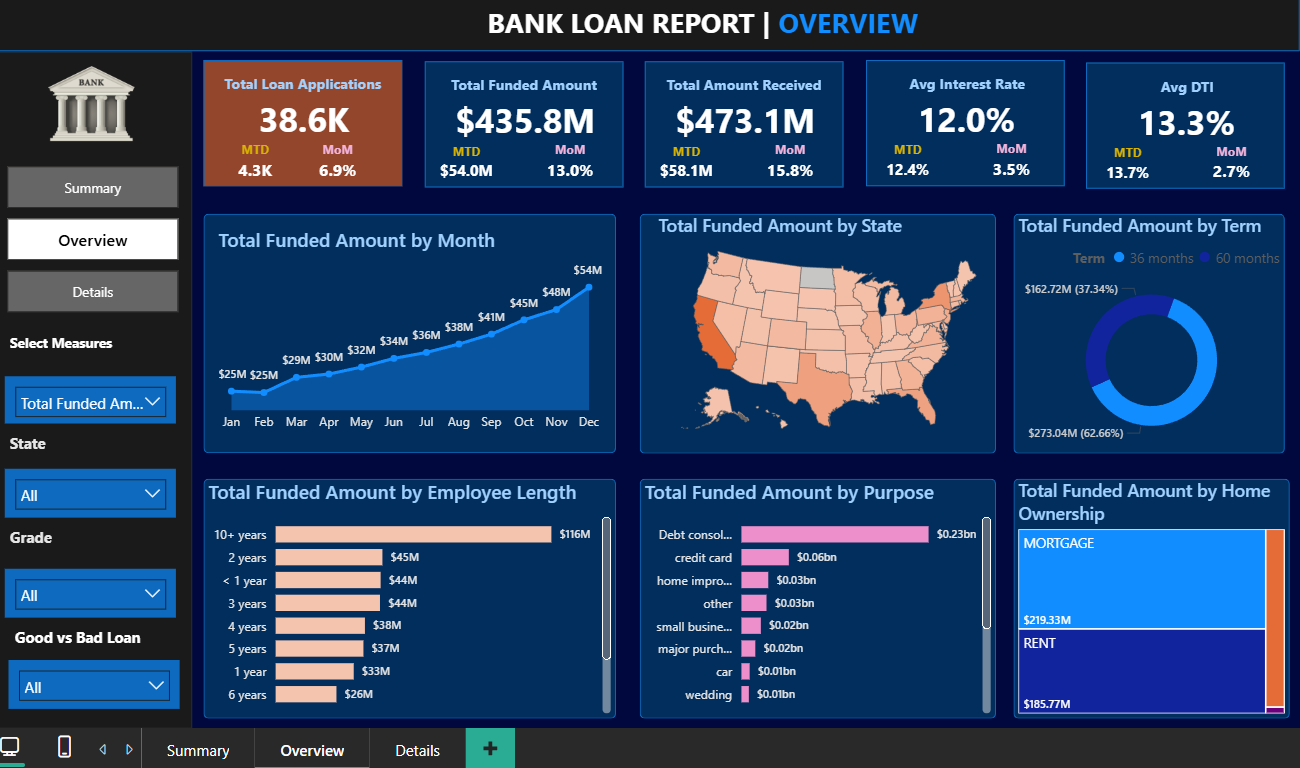

The page's visual inventory and layout, read from the dashboard file:
{"tool":"powerbi","page":{"name":"Overview","canvas":[1280,720],"ordinal":1},"visuals":[{"type":"shape","box":[853.4,63.8,195.1,123.9],"z":0,"group":"g4"},{"type":"shape","box":[203.7,64.4,195.1,123.9],"z":0,"group":"g1"},{"type":"shape","box":[420.2,65,195.1,123.9],"z":0,"group":"g2"},{"type":"shape","box":[636.8,65.6,195.1,123.9],"z":0,"group":"g3"},{"type":"shape","box":[1069.9,66.3,195.1,123.9],"z":0,"group":"g5"},{"type":"shape","box":[998.8,214.7,266.3,235.6],"z":0},{"type":"shape","box":[1.2,55.2,191.4,665],"z":1000},{"type":"card","fields":{"Values":["Measures Table.Avg Interest Rate"]},"box":[871.8,98.2,160.7,47.9],"z":1000,"group":"g4"},{"type":"card","fields":{"Values":["Measures Table.Total Loan Applications"]},"box":[222.1,98.8,160.7,47.9],"z":1000,"group":"g1"},{"type":"card","fields":{"Values":["Measures Table.Total Funded Amount"]},"box":[438.6,99.4,160.7,47.9],"z":1000,"group":"g2"},{"type":"card","fields":{"Values":["Measures Table.Total Received Amount"]},"box":[655.2,100,160.7,47.9],"z":1000,"group":"g3"},{"type":"card","fields":{"Values":["Measures Table.Avg DTI_"]},"box":[1088.3,100.7,160.7,47.9],"z":1000,"group":"g5"},{"type":"shape","box":[0,0,1279.8,55.2],"z":2000},{"type":"textbox","box":[853.4,72.4,195.1,29.4],"z":2000,"group":"g4"},{"type":"textbox","box":[203.7,73,195.1,29.4],"z":2000,"group":"g1"},{"type":"textbox","box":[420.2,73.6,195.1,29.4],"z":2000,"group":"g2"},{"type":"textbox","box":[636.8,74.2,195.1,29.4],"z":2000,"group":"g3"},{"type":"textbox","box":[1069.9,74.9,195.1,29.4],"z":2000,"group":"g5"},{"type":"card","title":"MTD","fields":{"Values":["Measures Table.Avg MTD Interest Rate"]},"box":[862.1,143.1,65,44.2],"z":3000,"group":"g4"},{"type":"card","title":"MTD","fields":{"Values":["Measures Table.Total MTD"]},"box":[222.1,144.2,65,44.2],"z":3000,"group":"g1"},{"type":"card","title":"MTD","fields":{"Values":["Measures Table.MTD Funded Amount"]},"box":[428.9,144.3,65,44.2],"z":3000,"group":"g2"},{"type":"card","title":"MTD","fields":{"Values":["Measures Table.MTD Received Amount"]},"box":[645.5,144.9,65,44.2],"z":3000,"group":"g3"},{"type":"card","title":"MTD","fields":{"Values":["Measures Table.MTD DTI"]},"box":[1078.6,145.6,65,44.2],"z":3000,"group":"g5"},{"type":"shape","box":[203.7,214.7,405,235],"z":3000},{"type":"textbox","box":[350.9,3.7,685.9,49.1],"z":4000},{"type":"card","title":"MoM","fields":{"Values":["Measures Table.MoM Interest Rate"]},"box":[963.2,142.6,65,44.2],"z":4000,"group":"g4"},{"type":"card","title":"MoM","fields":{"Values":["Measures Table.Mom funded Amount"]},"box":[530,143.8,65,44.2],"z":4000,"group":"g2"},{"type":"card","title":"MoM","fields":{"Values":["Measures Table.Mom Loan Applications"]},"box":[303.1,144.2,65,44.2],"z":4000,"group":"g1"},{"type":"card","title":"MoM","fields":{"Values":["Measures Table.MoM Received Amount"]},"box":[746.6,144.4,65,44.2],"z":4000,"group":"g3"},{"type":"card","title":"MoM","fields":{"Values":["Measures Table.Mom DTI"]},"box":[1179.7,145.1,65,44.2],"z":4000,"group":"g5"},{"type":"group","id":"g1","title":"Group 1","box":[203.7,64.4,195.1,123.9],"z":5000},{"type":"group","id":"g2","title":"Group 1","box":[420.2,65,195.1,123.9],"z":6000},{"type":"group","id":"g3","title":"Group 1","box":[636.8,65.6,195.1,123.9],"z":7000},{"type":"group","id":"g4","title":"Group 1","box":[853.4,63.8,195.1,123.9],"z":8000},{"type":"donutChart","fields":{"Y":["Measures Table.Total Funded Amount"],"Category":["Bank_Loan_Data.term"]},"box":[998.8,214.7,271.2,235.6],"z":9000},{"type":"group","id":"g5","title":"Group 1","box":[1069.9,66.3,195.1,123.9],"z":10000},{"type":"slicer","fields":{"Values":["Bank_Loan_Data.address_state"]},"box":[8.6,465,168.1,47.9],"z":11000},{"type":"textbox","box":[8.6,420.9,73.6,44.2],"z":12000},{"type":"slicer","fields":{"Values":["Bank_Loan_Data.grade"]},"box":[8.6,563.2,168.1,47.9],"z":13000},{"type":"textbox","box":[8.6,512.9,73.6,41.7],"z":14000},{"type":"slicer","fields":{"Values":["Bank_Loan_Data.Good Loan Vs Bad Loan"]},"box":[12.3,652.8,168.1,47.9],"z":15000},{"type":"textbox","box":[13.5,611,158.3,41.7],"z":16000},{"type":"areaChart","fields":{"Y":["Measures Table.Total Funded Amount"],"Category":["Date Table.Month"]},"box":[213.5,227,386.5,209.8],"z":17000},{"type":"slicer","fields":{"Values":["Select Measure.Select Measure"]},"box":[8.6,374.2,168.1,46.6],"z":18000},{"type":"textbox","box":[8.6,327.6,166.9,46.6],"z":19000},{"type":"shape","box":[631.9,214.7,349.7,235.6],"z":20000},{"type":"shapeMap","fields":{"Value":["Measures Table.Total Funded Amount"],"Category":["Bank_Loan_Data.address_state"]},"box":[645.4,214.7,344.8,225.8],"z":21000},{"type":"shape","box":[203.7,474.8,404.9,235.6],"z":22000},{"type":"barChart","fields":{"Y":["Measures Table.Total Funded Amount"],"Category":["Bank_Loan_Data.emp_length"]},"box":[203.7,474.8,404.9,235.6],"z":23000},{"type":"shape","box":[631.9,474.8,349.7,235.6],"z":24000},{"type":"barChart","fields":{"Y":["Measures Table.Total Funded Amount"],"Category":["Bank_Loan_Data.purpose"]},"box":[631.9,474.8,349.7,235.6],"z":25000},{"type":"shape","box":[998.8,474.8,271.2,235.6],"z":26000},{"type":"treemap","fields":{"Values":["Measures Table.Total Funded Amount"],"Group":["Bank_Loan_Data.home_ownership"]},"box":[998.8,474.8,271.2,235.6],"z":27000},{"type":"pageNavigator","box":[11,168.1,168.1,143.6],"z":28000},{"type":"image","box":[39.3,65,109.2,83.4],"z":29000}]}

Visuals, with their boxes on the page's 1280x720 design canvas (x1, y1, x2, y2). These are canvas units, not pixel positions in the 1300x768 screenshot, which may show the page scaled, cropped or inside an application window:
shape: (853, 64, 1048, 188)
shape: (204, 64, 399, 188)
shape: (420, 65, 615, 189)
shape: (637, 66, 832, 190)
shape: (1070, 66, 1265, 190)
shape: (999, 215, 1265, 450)
shape: (1, 55, 193, 720)
card - Measures Table.Avg Interest Rate: (872, 98, 1032, 146)
card - Measures Table.Total Loan Applications: (222, 99, 383, 147)
card - Measures Table.Total Funded Amount: (439, 99, 599, 147)
card - Measures Table.Total Received Amount: (655, 100, 816, 148)
card - Measures Table.Avg DTI_: (1088, 101, 1249, 149)
shape: (0, 0, 1280, 55)
textbox: (853, 72, 1048, 102)
textbox: (204, 73, 399, 102)
textbox: (420, 74, 615, 103)
textbox: (637, 74, 832, 104)
textbox: (1070, 75, 1265, 104)
"MTD" card: (862, 143, 927, 187)
"MTD" card: (222, 144, 287, 188)
"MTD" card: (429, 144, 494, 188)
"MTD" card: (646, 145, 710, 189)
"MTD" card: (1079, 146, 1144, 190)
shape: (204, 215, 609, 450)
textbox: (351, 4, 1037, 53)
"MoM" card: (963, 143, 1028, 187)
"MoM" card: (530, 144, 595, 188)
"MoM" card: (303, 144, 368, 188)
"MoM" card: (747, 144, 812, 189)
"MoM" card: (1180, 145, 1245, 189)
"Group 1" group: (204, 64, 399, 188)
"Group 1" group: (420, 65, 615, 189)
"Group 1" group: (637, 66, 832, 190)
"Group 1" group: (853, 64, 1048, 188)
donutChart - Measures Table.Total Funded Amount x Bank_Loan_Data.term: (999, 215, 1270, 450)
"Group 1" group: (1070, 66, 1265, 190)
slicer - Bank_Loan_Data.address_state: (9, 465, 177, 513)
textbox: (9, 421, 82, 465)
slicer - Bank_Loan_Data.grade: (9, 563, 177, 611)
textbox: (9, 513, 82, 555)
slicer - Bank_Loan_Data.Good Loan Vs Bad Loan: (12, 653, 180, 701)
textbox: (14, 611, 172, 653)
areaChart - Measures Table.Total Funded Amount x Date Table.Month: (214, 227, 600, 437)
slicer - Select Measure.Select Measure: (9, 374, 177, 421)
textbox: (9, 328, 176, 374)
shape: (632, 215, 982, 450)
shapeMap - Measures Table.Total Funded Amount x Bank_Loan_Data.address_state: (645, 215, 990, 440)
shape: (204, 475, 609, 710)
barChart - Measures Table.Total Funded Amount x Bank_Loan_Data.emp_length: (204, 475, 609, 710)
shape: (632, 475, 982, 710)
barChart - Measures Table.Total Funded Amount x Bank_Loan_Data.purpose: (632, 475, 982, 710)
shape: (999, 475, 1270, 710)
treemap - Measures Table.Total Funded Amount x Bank_Loan_Data.home_ownership: (999, 475, 1270, 710)
pageNavigator: (11, 168, 179, 312)
image: (39, 65, 148, 148)
